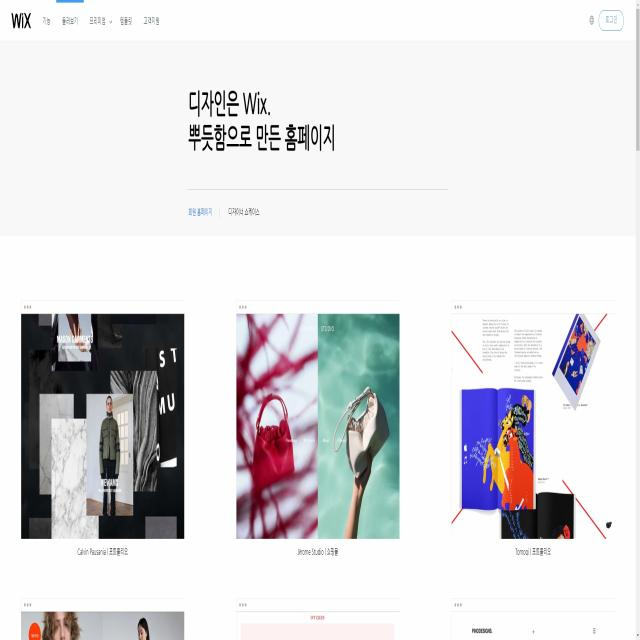tab-bar: (40, 11, 162, 32)
